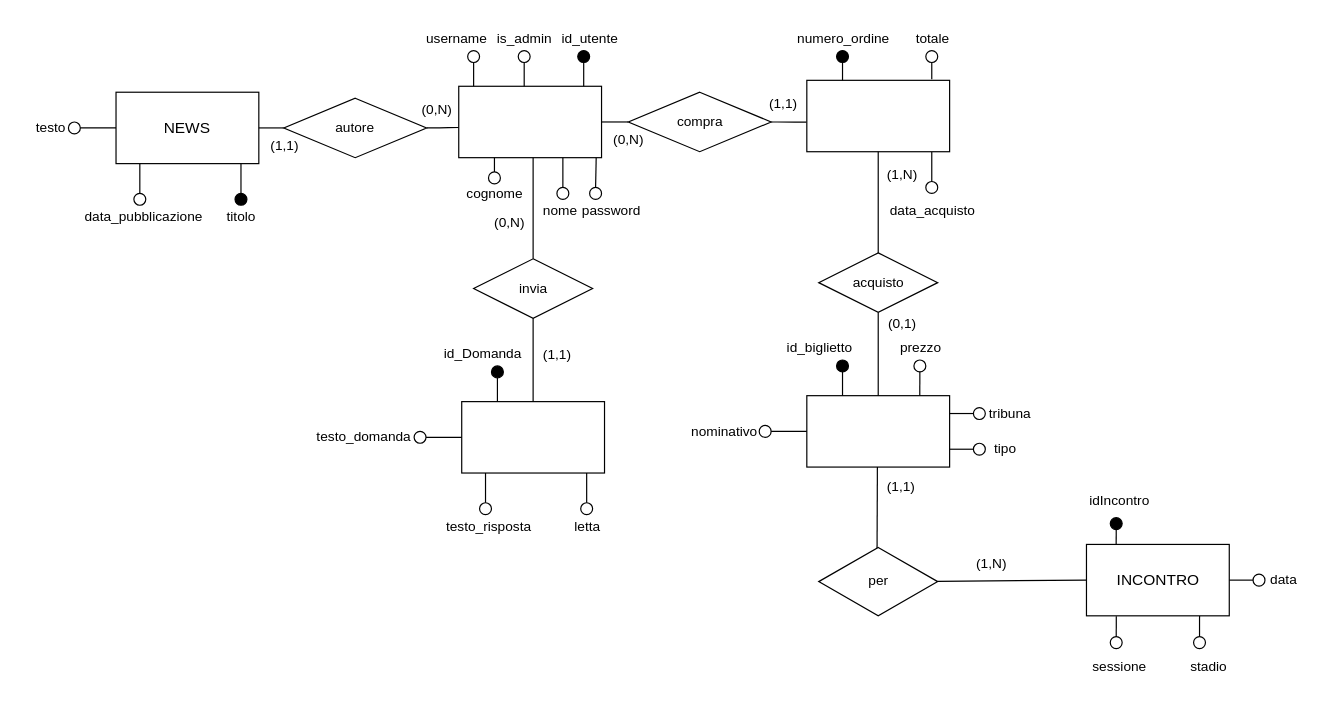
This 1333x704 diagram has some shape labels left out. Here are the shapes that lost their labels. From the top down, the centre of each, then its label:
At (x=530, y=121): "UTENTE".
At (x=878, y=115): "ORDINE".
At (x=533, y=436): "DOMANDE".
At (x=878, y=430): "BIGLIETTI".
